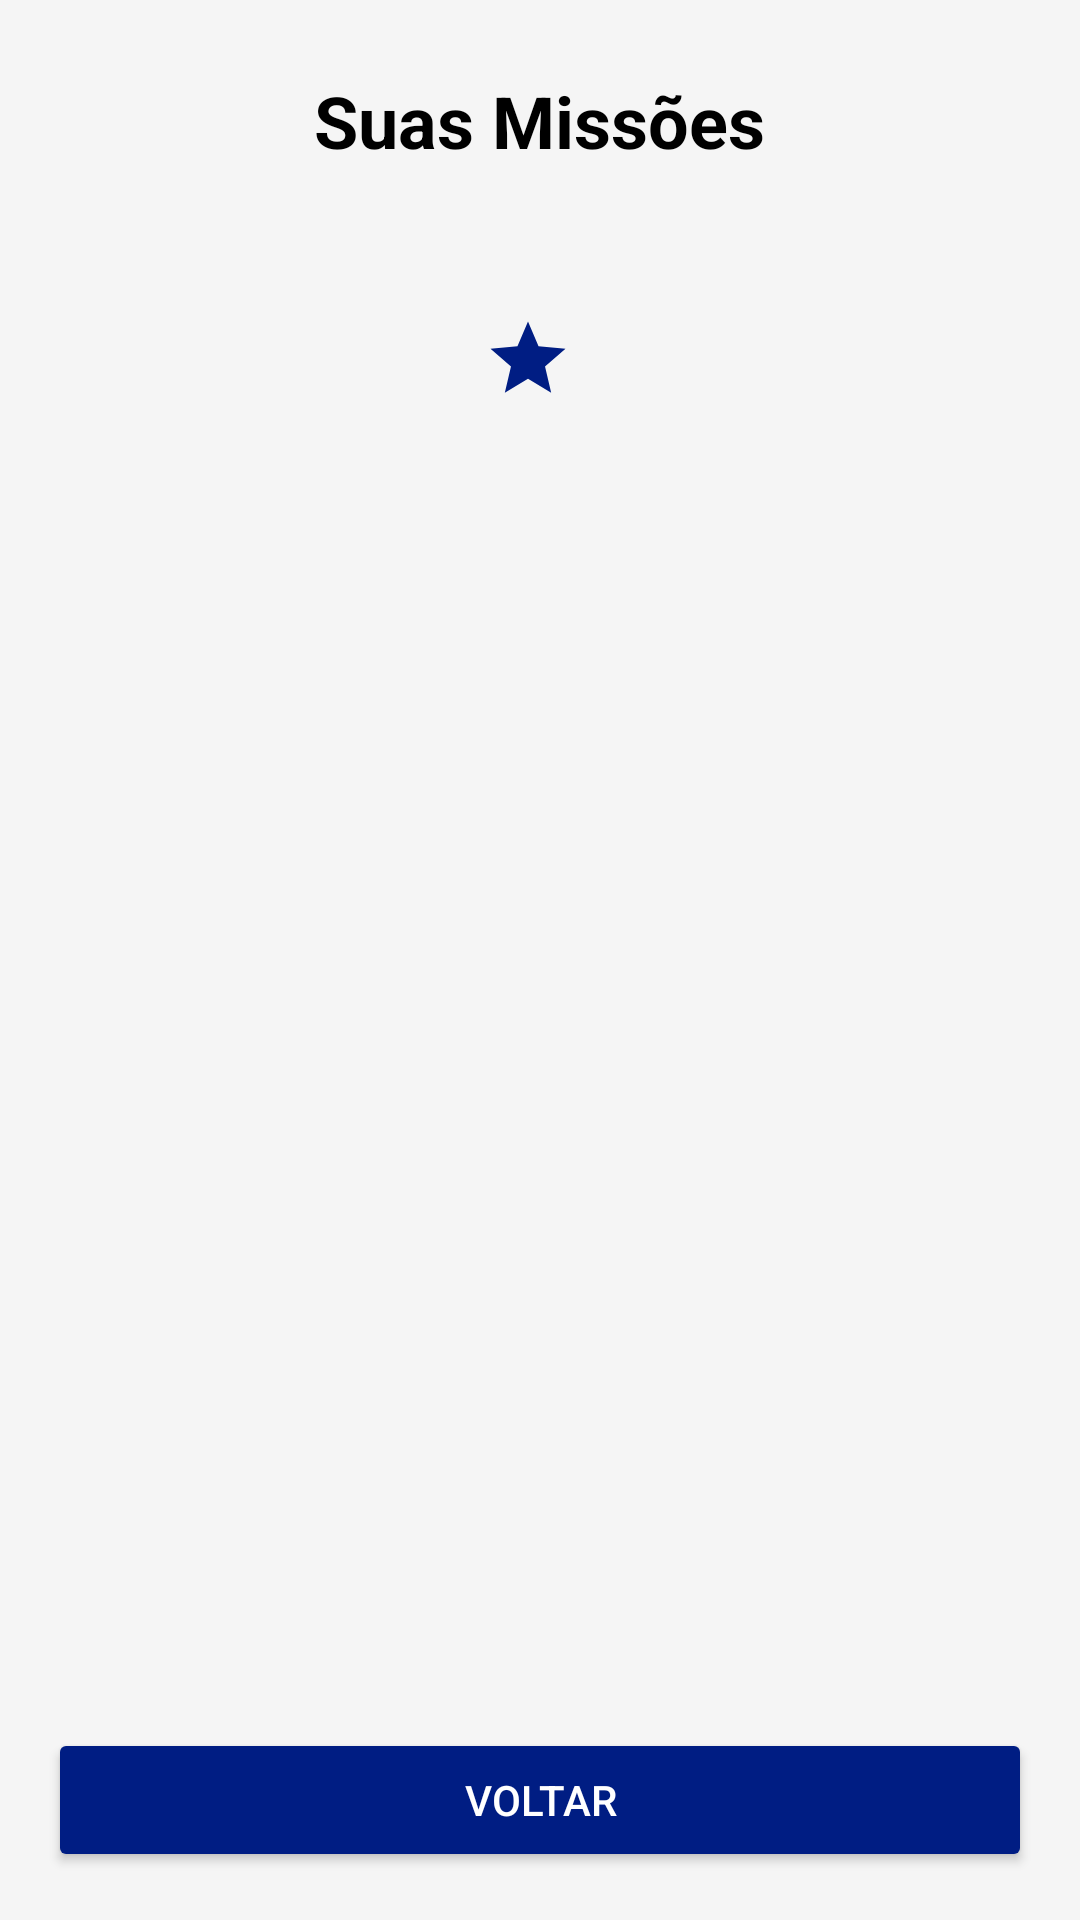

Icons on this 1080w x 1920h Android screen, each with the point to tap as (x=x, y=y):
star points: (x=528, y=357)
